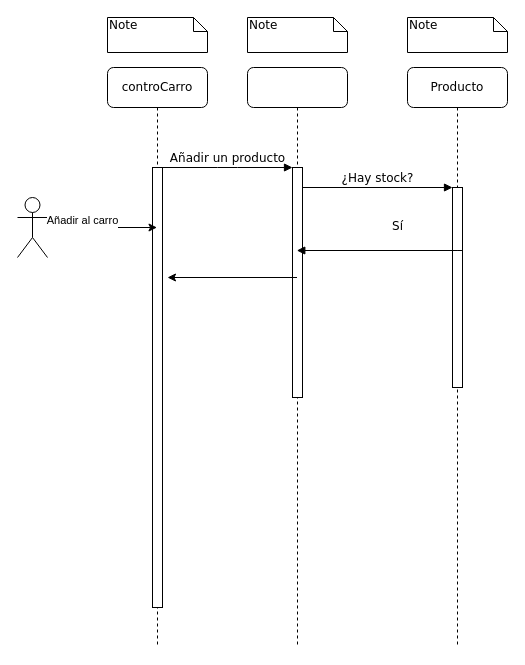
Image size: 525x665. Some labels were removed from this diagram. The shapes that lost their labels are listed below. From the top down, each one's centre as x and y in pixels, then its label:
(32,227): Actor
(297,357): lineaPedido
